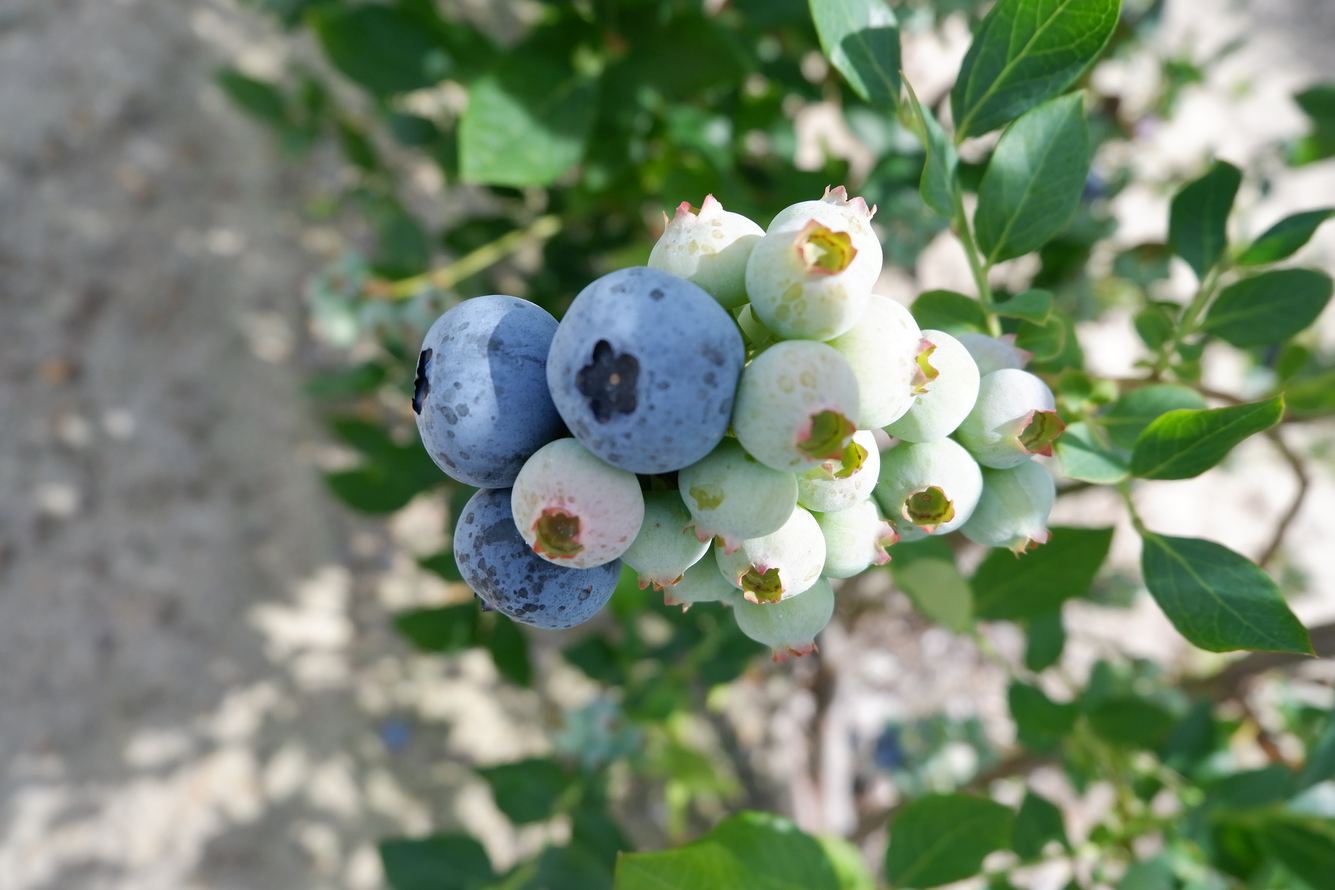Immature: (515, 442, 641, 566), (735, 344, 859, 467), (750, 220, 878, 337), (831, 296, 936, 426), (653, 198, 763, 309), (681, 437, 796, 541), (766, 183, 883, 271), (718, 508, 824, 604), (956, 373, 1062, 467), (876, 442, 979, 534), (622, 482, 712, 584), (893, 332, 977, 441), (962, 461, 1054, 550), (736, 578, 833, 661), (797, 432, 880, 510), (816, 500, 896, 577), (664, 555, 731, 606), (957, 334, 1031, 374)
Mature: (550, 273, 739, 471), (415, 296, 561, 483), (456, 488, 619, 627)
